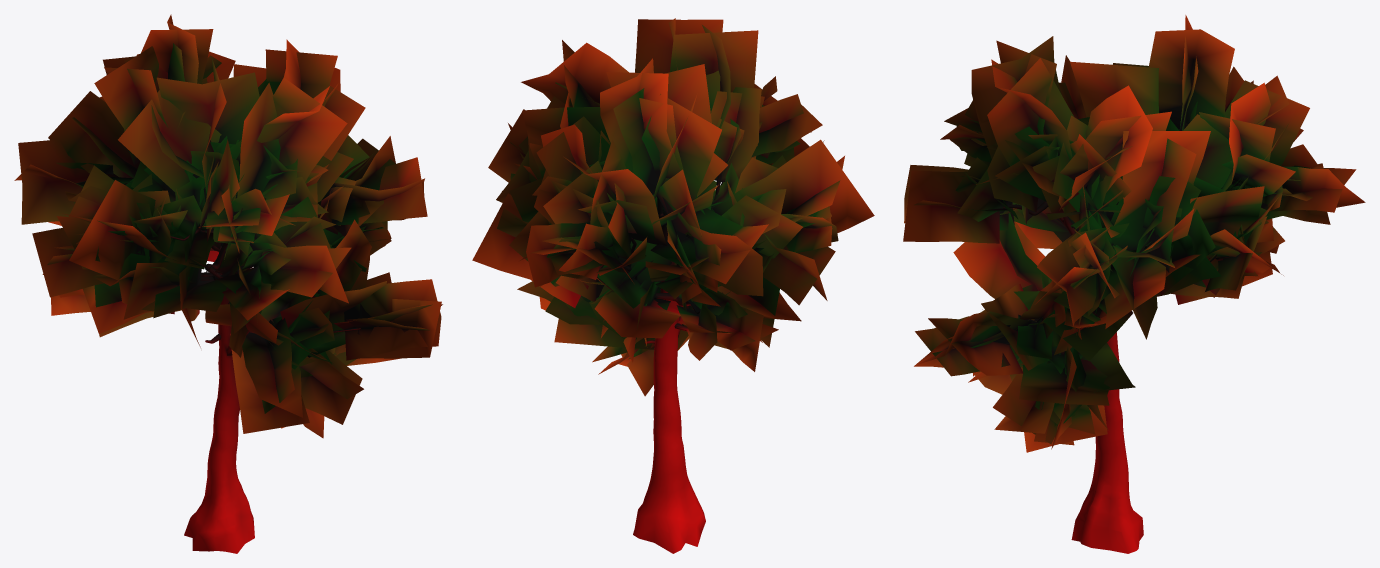
The model's file is BeechTree01Fall.fbx.
3 renders of one model, left to right at view 1: azimuth 30°, elevation 25°; view 2: azimuth 150°, elevation 25°; view 3: azimuth 270°, elevation 25°, orthographic. The views are drawn at different scales.
Parts seen in each view (by area): view 1: BeechTree01Fall_Leaves_LOD0, BeechTree01Fall_Bark_LOD0; view 2: BeechTree01Fall_Leaves_LOD0, BeechTree01Fall_Bark_LOD0; view 3: BeechTree01Fall_Leaves_LOD0, BeechTree01Fall_Bark_LOD0.
Boxes of the visible parts, x1,y1,x2,y2 form: BeechTree01Fall_Leaves_LOD0: (14,14,442,438); BeechTree01Fall_Bark_LOD0: (170,200,360,553); BeechTree01Fall_Leaves_LOD0: (472,18,874,396); BeechTree01Fall_Bark_LOD0: (619,174,722,553); BeechTree01Fall_Leaves_LOD0: (903,15,1365,452); BeechTree01Fall_Bark_LOD0: (1003,123,1234,553).
Size of what is drawn, in the model's own units: 16.37 by 21.41 by 17.43.
